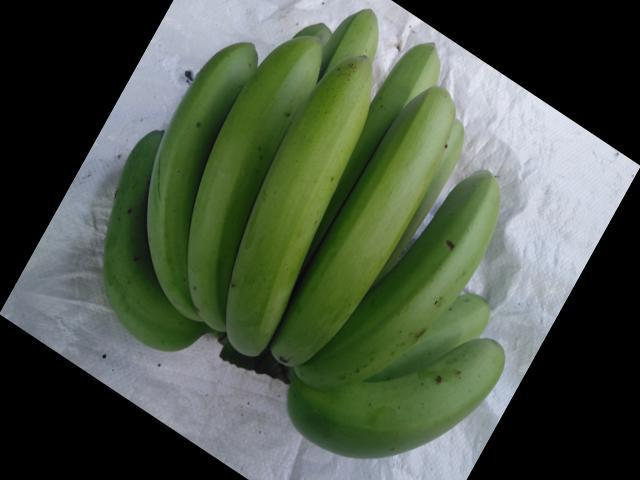freshunripe: (216, 42, 381, 375), (249, 337, 499, 467), (98, 126, 174, 369)
